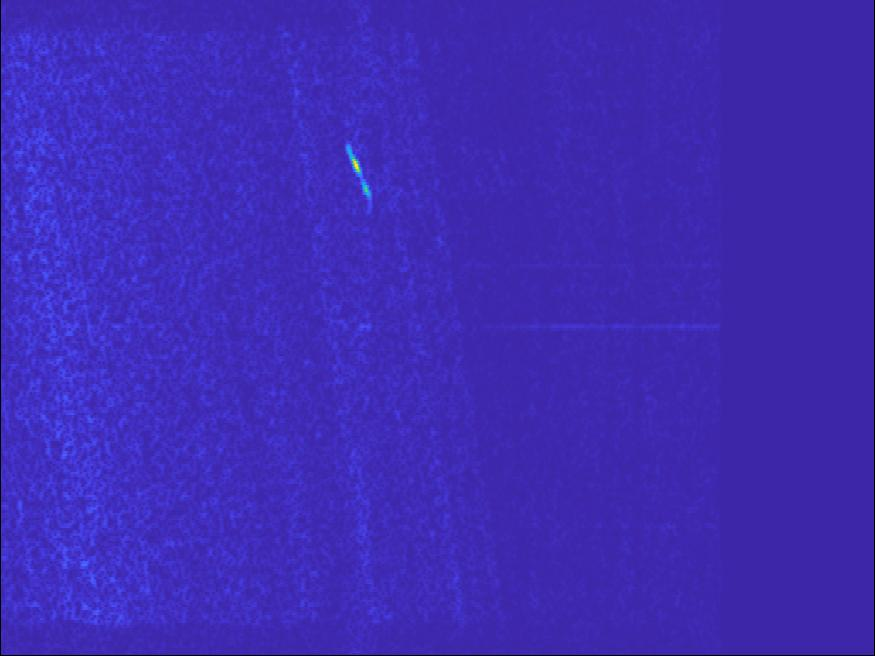Interference: (518, 506, 728, 656), (59, 291, 277, 369), (486, 324, 691, 398), (555, 6, 676, 56), (738, 307, 861, 353)
